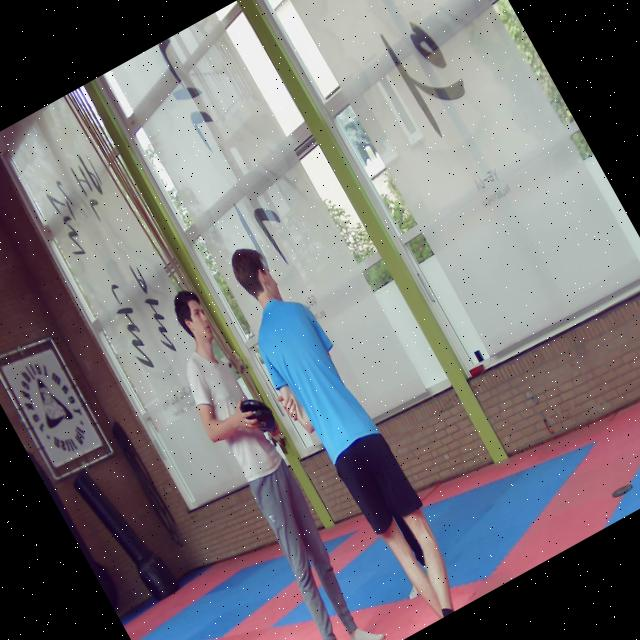paddle: (240, 400, 284, 435)
